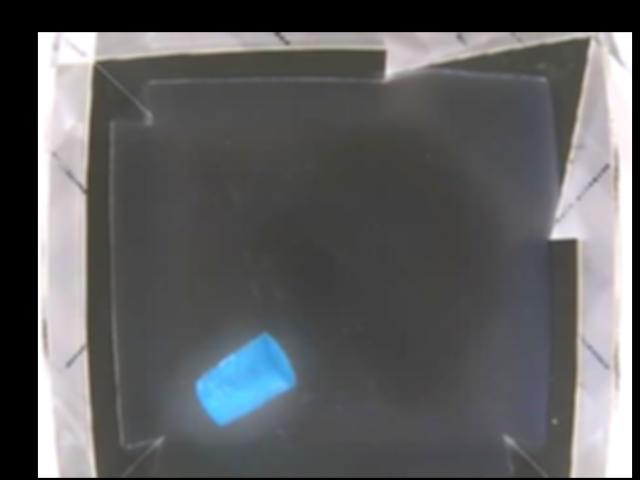Carrot: (192, 332, 296, 425)
